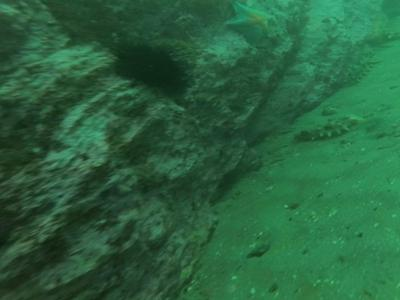holothurian: (290, 115, 363, 140)
urchin: (109, 42, 191, 105)
